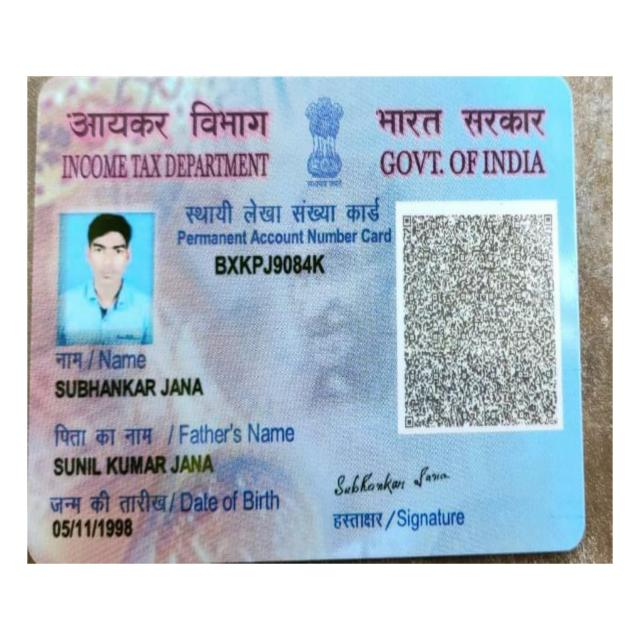pan_card: (34, 82, 581, 558)
